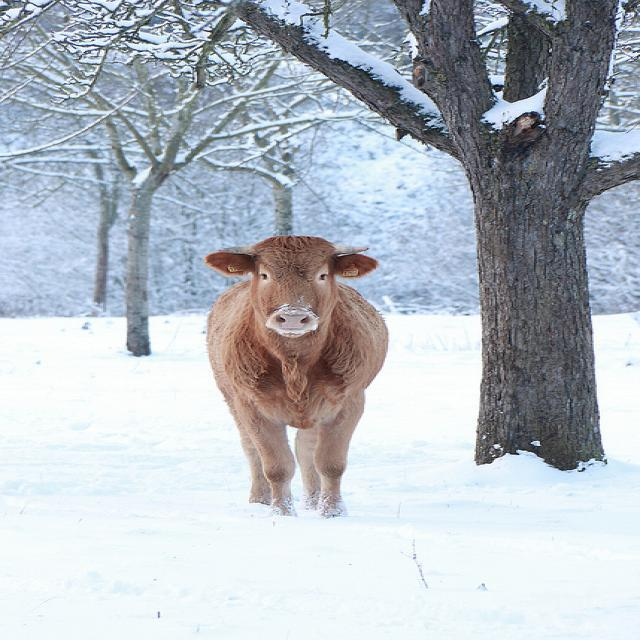cow: (203, 234, 386, 517)
